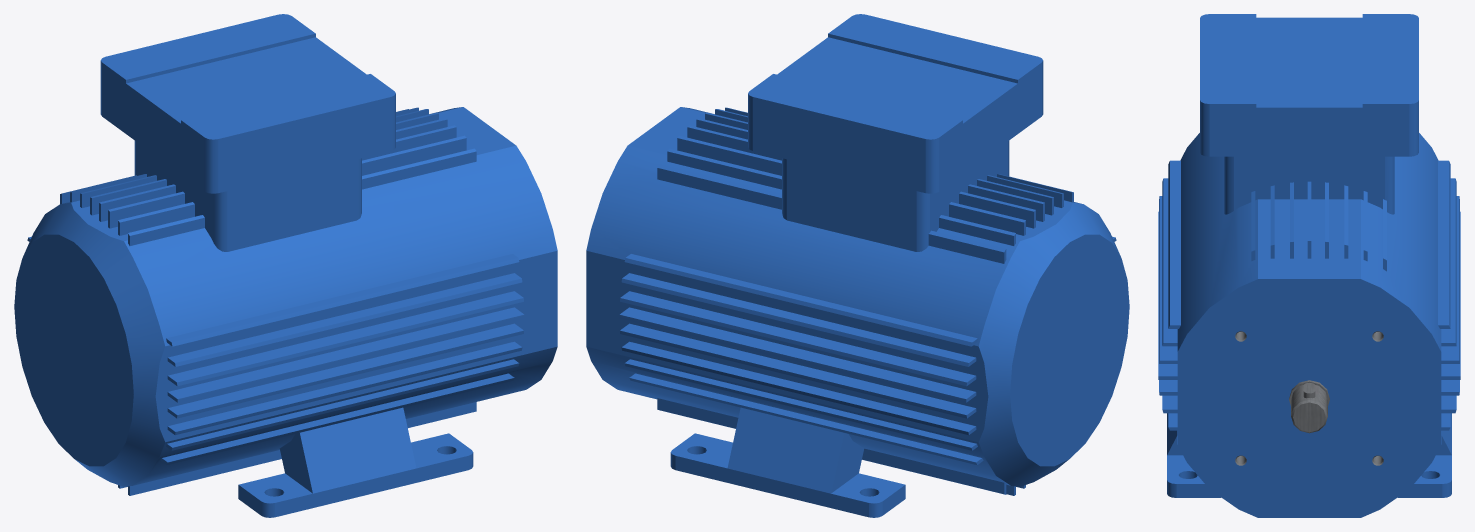
Rendered from DRN80MK4-B3-mono-azul.glb.
3 views of the same model, side by side, from view 1: azimuth 30°, elevation 25°; view 2: azimuth 150°, elevation 25°; view 3: azimuth 270°, elevation 25° (orthographic). The views are drawn at different scales.
Parts seen in each view (by area): view 1: DRN80MK4-B3; view 2: DRN80MK4-B3; view 3: DRN80MK4-B3.
Part boxes in pixels (x1,y1,x2,y2): DRN80MK4-B3: (14,14,557,517); DRN80MK4-B3: (586,14,1129,517); DRN80MK4-B3: (1158,14,1460,517).
Size of the model in its own units: 0.264 by 0.208 by 0.156.
2 materials, 1 textured.
